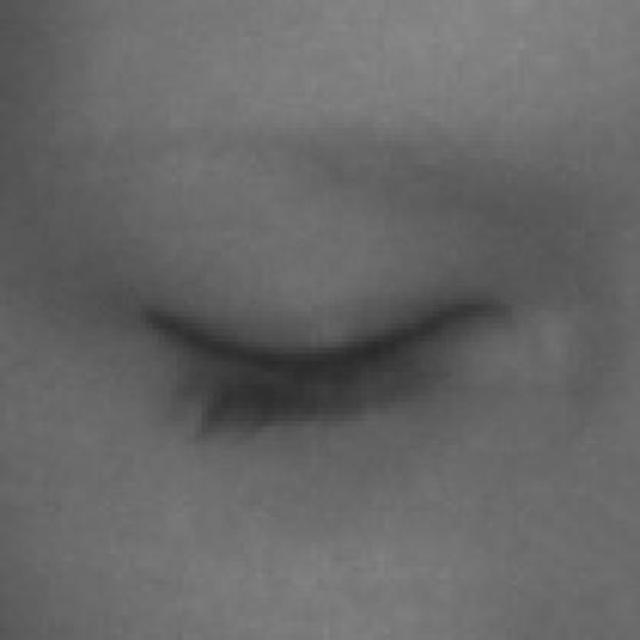drowsy: (135, 178, 491, 525)
